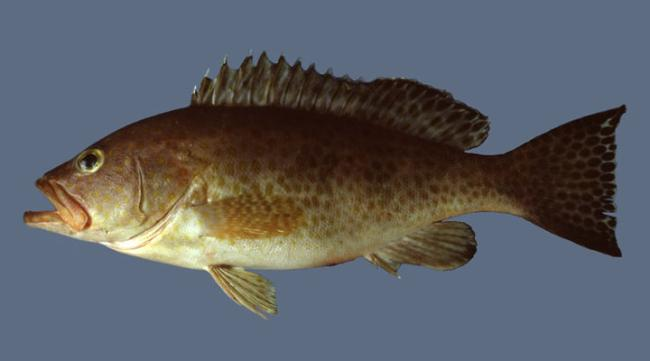fish: (23, 48, 627, 322)
